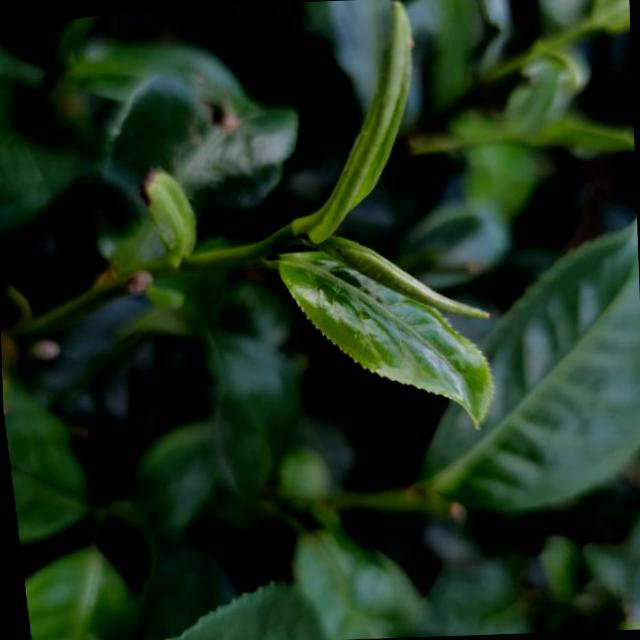Stem: (211, 244, 262, 271)
